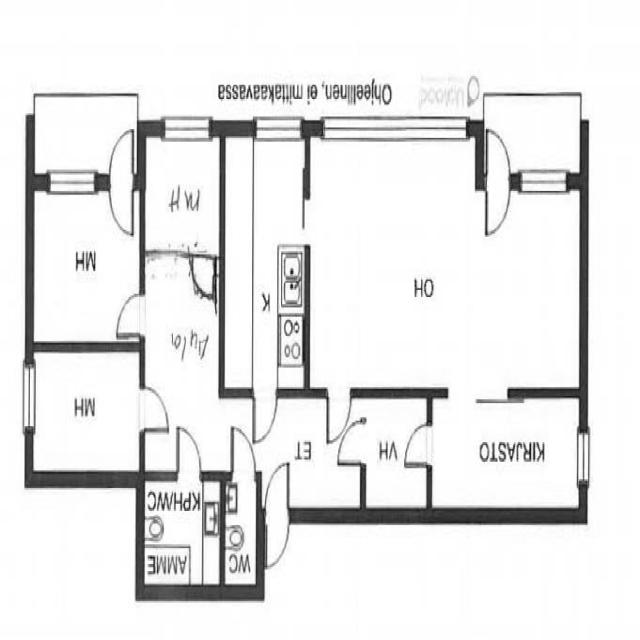door: (356, 396, 428, 512), (224, 449, 258, 591), (481, 121, 514, 243), (105, 126, 138, 240), (330, 391, 363, 465), (112, 289, 148, 343), (174, 422, 204, 484), (324, 384, 354, 446), (402, 418, 435, 474), (264, 458, 294, 519), (227, 423, 257, 483), (482, 184, 512, 244), (262, 516, 294, 571), (337, 419, 369, 472), (251, 387, 279, 446), (137, 385, 170, 435)
window: (321, 111, 465, 154), (41, 160, 104, 203), (155, 107, 216, 148), (515, 160, 572, 202), (247, 108, 307, 147), (20, 358, 39, 440), (574, 426, 593, 494)
zone: (306, 121, 485, 396), (308, 133, 483, 393), (222, 132, 310, 395), (429, 394, 583, 517), (31, 183, 142, 348), (143, 255, 221, 471), (27, 348, 143, 481), (144, 127, 222, 260), (140, 473, 222, 594), (359, 394, 430, 508), (223, 472, 258, 595), (387, 408, 433, 492)
